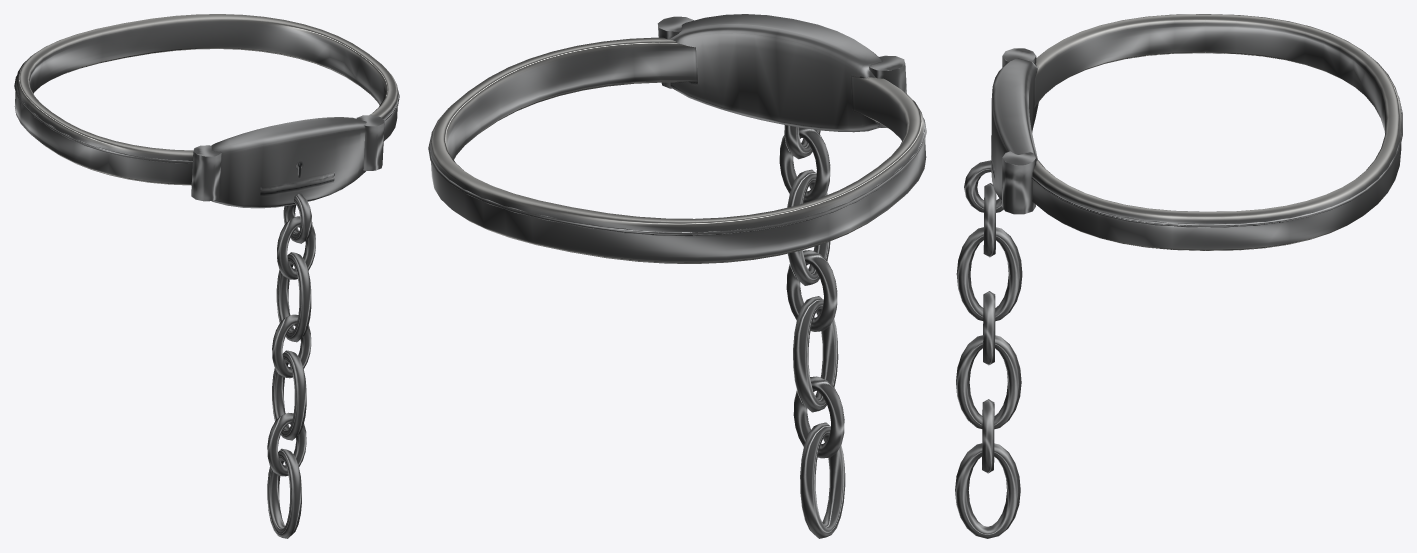
3 renders of one model, left to right at view 1: azimuth 30°, elevation 25°; view 2: azimuth 150°, elevation 25°; view 3: azimuth 270°, elevation 25°, orthographic. The views are drawn at different scales.
Parts seen in each view (by area): view 1: hash_C38CC441.model; view 2: hash_C38CC441.model; view 3: hash_C38CC441.model.
Part boxes in pixels (x1,y1,x2,y2): hash_C38CC441.model: [14, 14, 399, 538]; hash_C38CC441.model: [428, 14, 926, 538]; hash_C38CC441.model: [955, 14, 1402, 538].
Bounding box in the file's own units: 0.0823 × 0.0953 × 0.0845.
